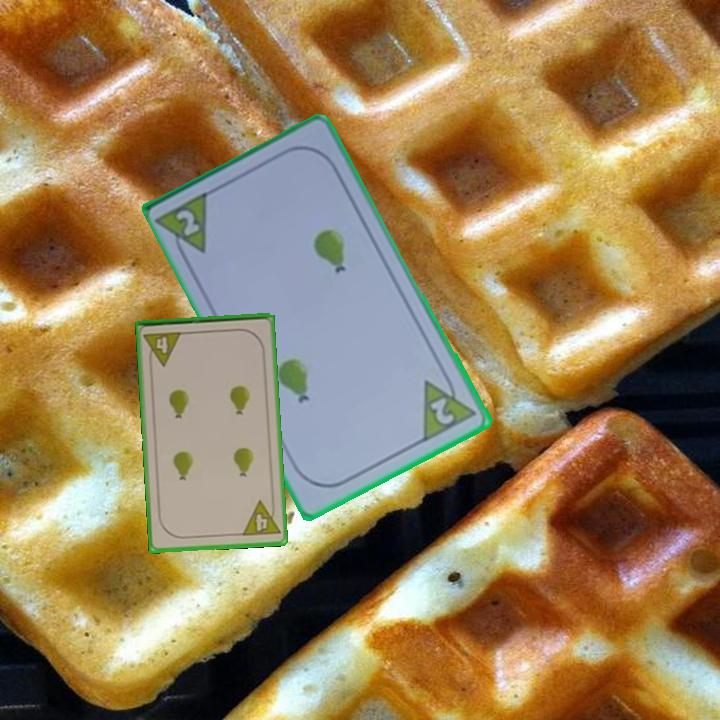2p: (419, 368, 480, 446), (172, 206, 204, 240)
4p: (238, 497, 283, 539), (140, 328, 185, 369)
